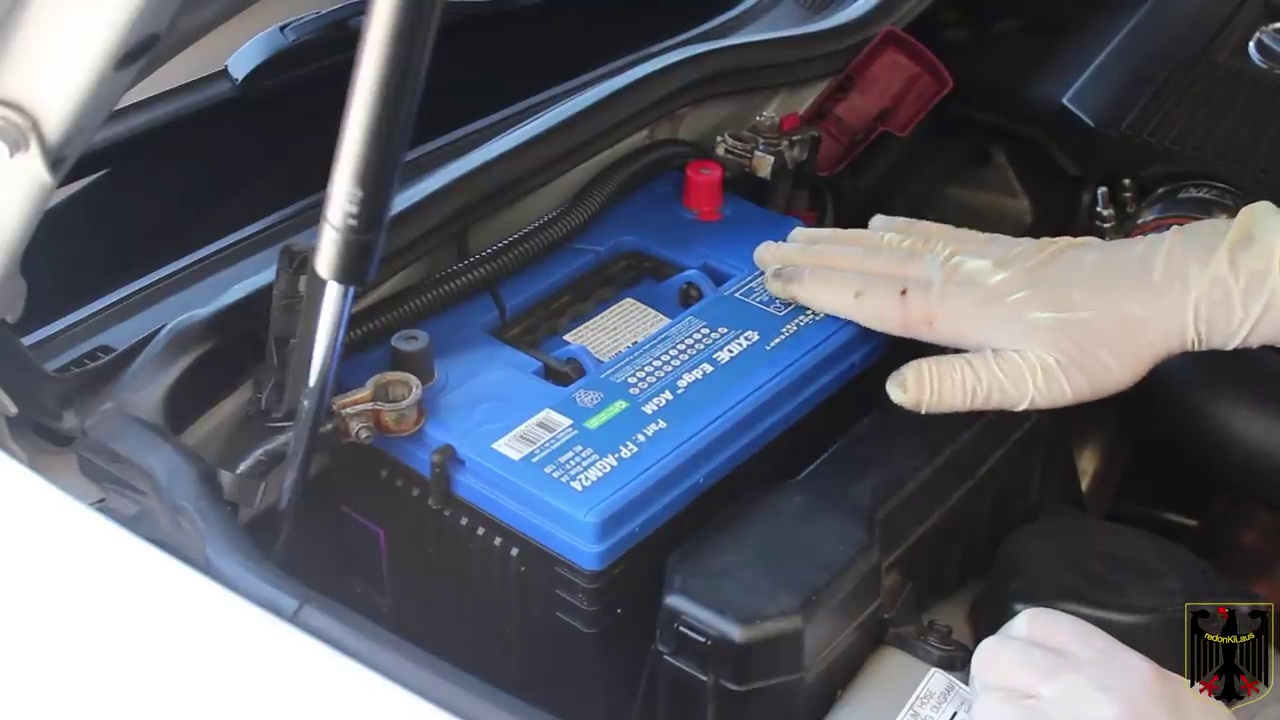battery: (320, 152, 888, 509)
pos_disconnected: (656, 56, 915, 225)
